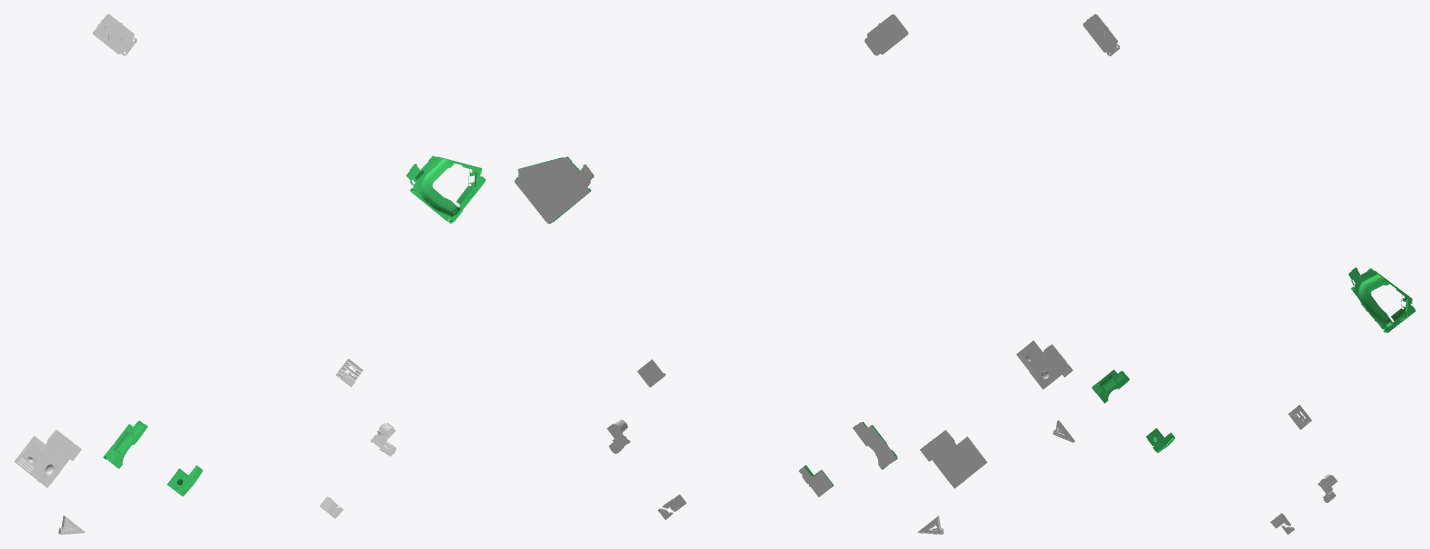
3 views of the same model, side by side, from view 1: azimuth 30°, elevation 25°; view 2: azimuth 150°, elevation 25°; view 3: azimuth 330°, elevation 25° (orthographic). The views are drawn at different scales.
Bounding box in the file's own units: 7484 × 8495 × 185.
